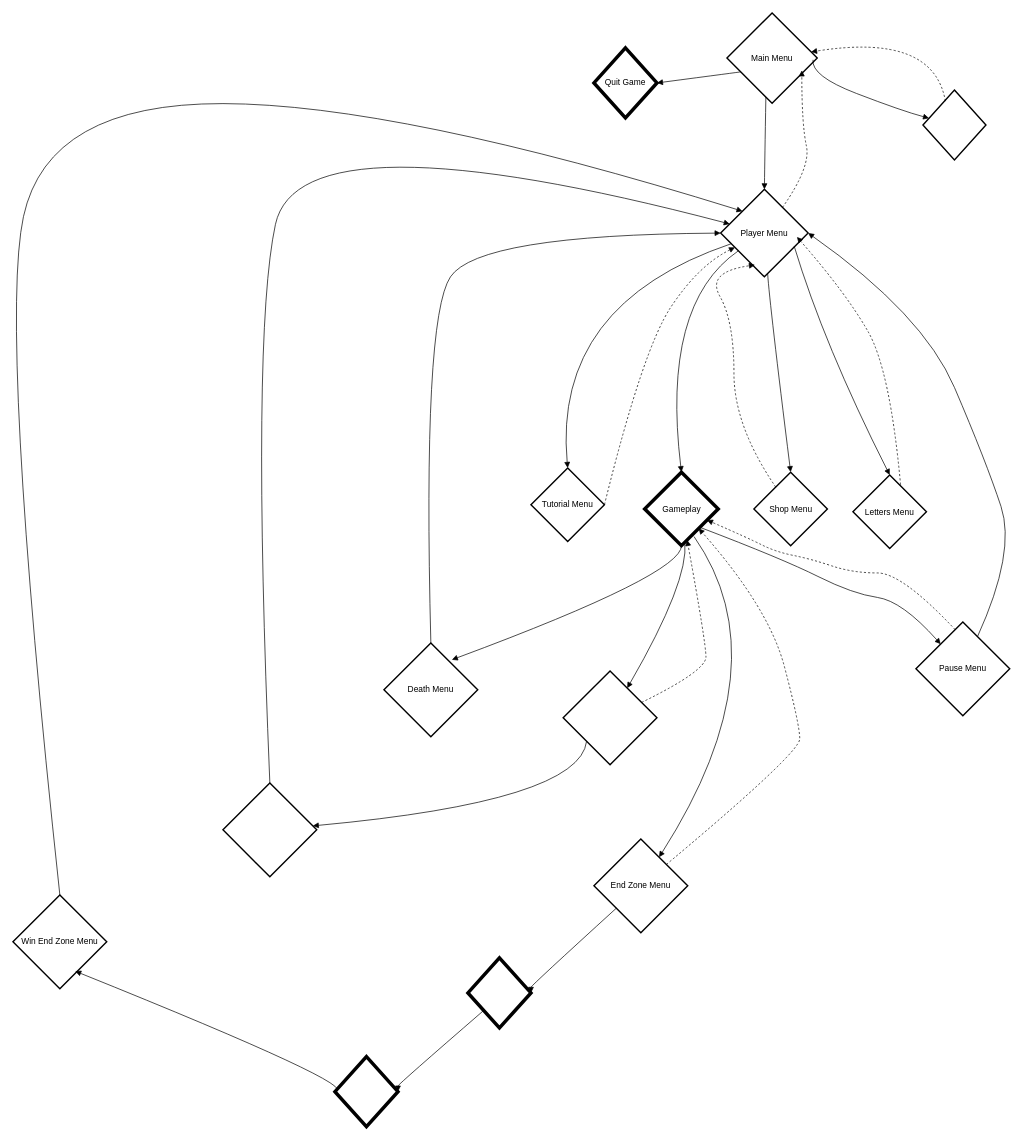
The diagram is 1022 pixels wide and 1140 high, and some of its shapes have lost their labels. The shapes that lost their labels are listed below. From the top down, each one's centre as x and y in pixels, then its label:
At point (954, 124): "Credits Menu".
At point (609, 717): "Exit Zone Menu".
At point (269, 829): "Win Exit Zone Menu".
At point (499, 992): "Spawn Boss".
At point (366, 1091): "Defeat Boss".
